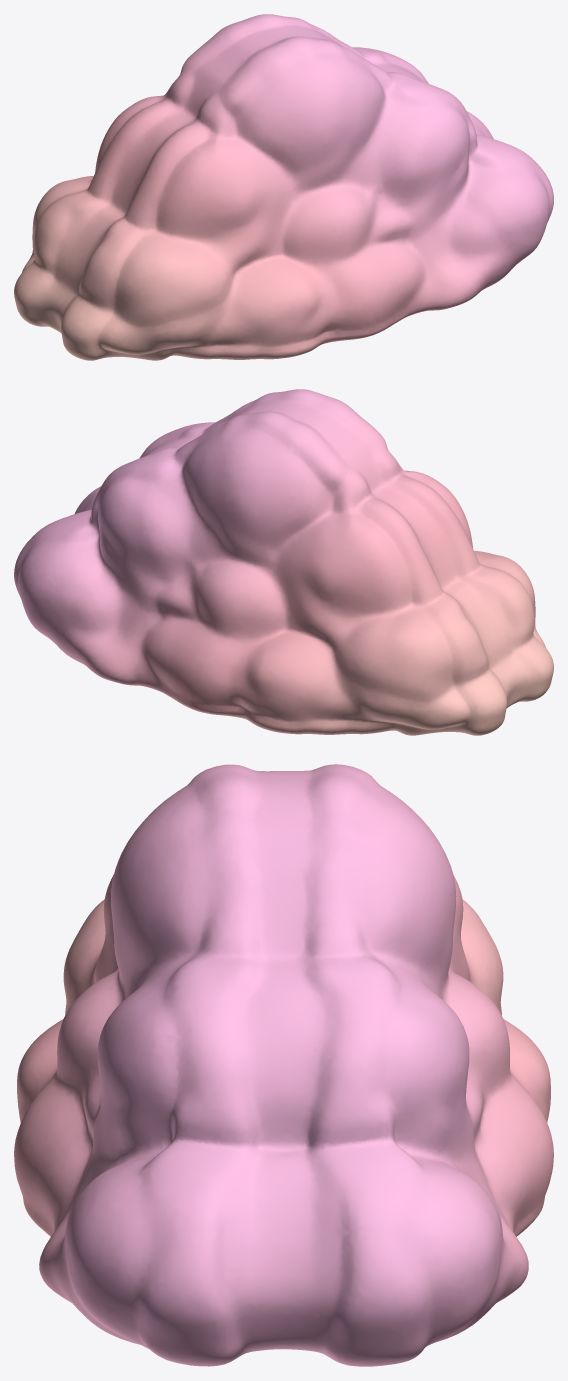
File: Low Poly Clouds ya listo .glb
The picture shows the model from 3 angles, top to bottom: view 1: azimuth 30°, elevation 25°; view 2: azimuth 150°, elevation 25°; view 3: azimuth 270°, elevation 25°; orthographic projection. The views are drawn at different scales.
Parts seen in each view (by area): view 1: Mesh_0; view 2: Mesh_0; view 3: Mesh_0.
Part boxes in pixels (x1,y1,x2,y2): Mesh_0: (14,14,553,360); Mesh_0: (14,389,553,735); Mesh_0: (14,764,553,1366).
Size of the model in its own units: 1.89 by 1.02 by 1.12.
Materials: 1 (1 with a texture image).
